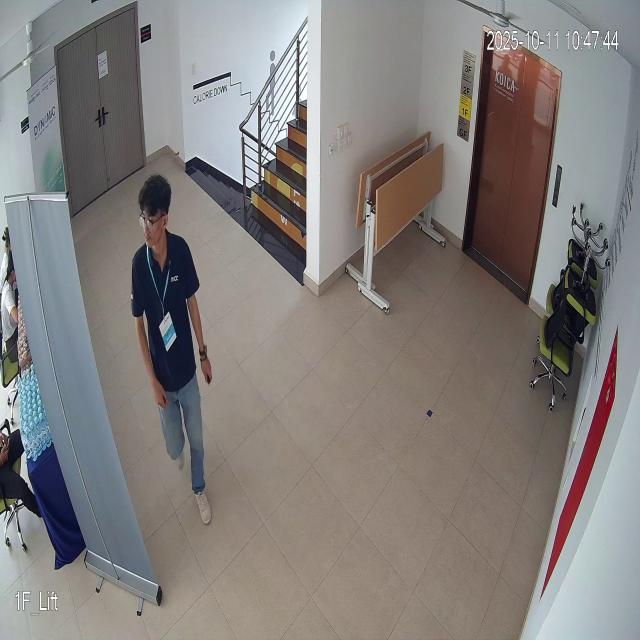face: (136, 174, 172, 259)
